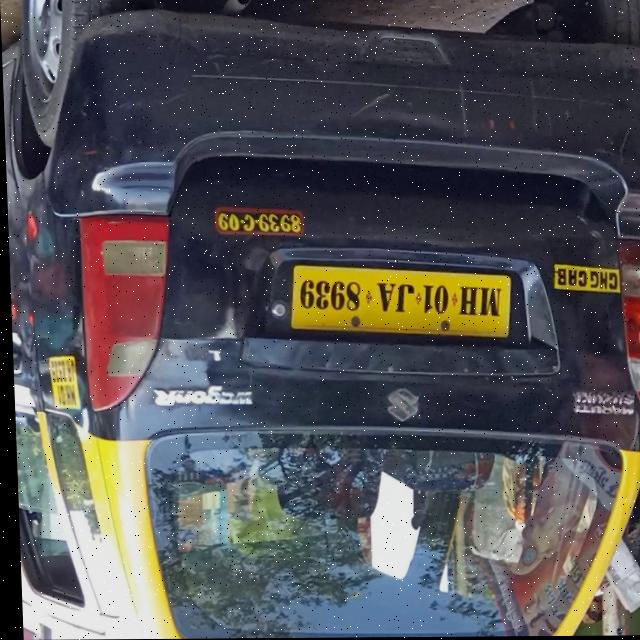plate: (279, 258, 515, 345)
